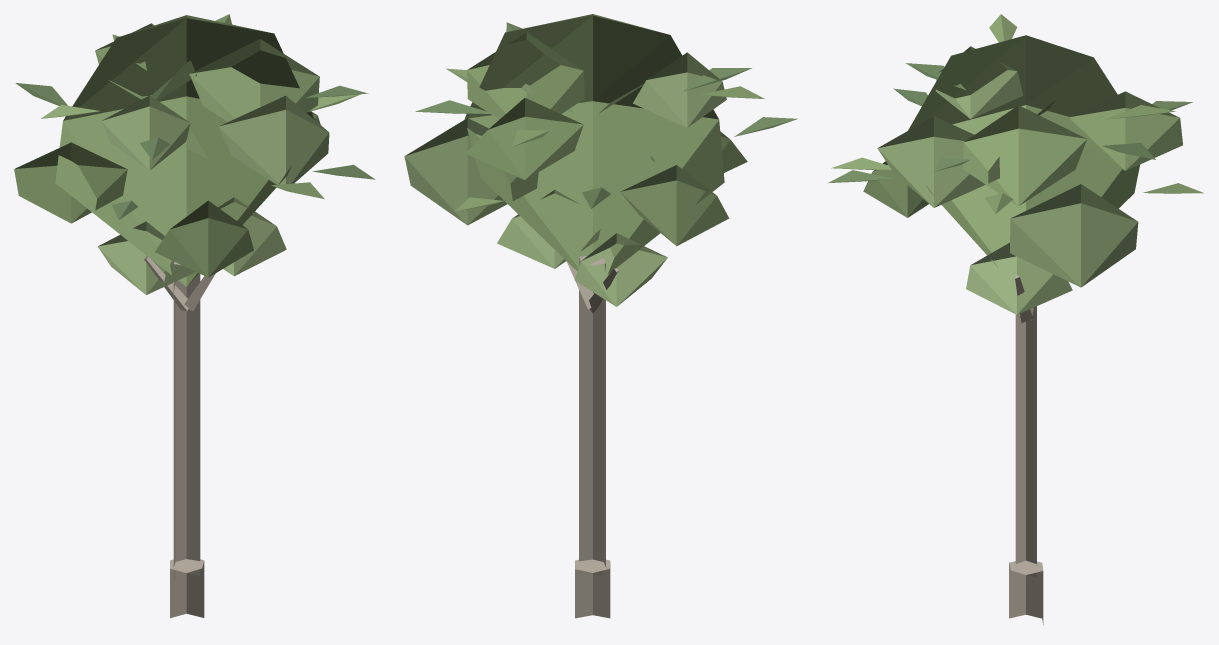
Rendered from shu.baigan@subadult__summer.glb.
3 views of the same model, side by side, from view 1: azimuth 30°, elevation 25°; view 2: azimuth 150°, elevation 25°; view 3: azimuth 270°, elevation 25° (orthographic). The views are drawn at different scales.
Visible parts, largest first — view 1: shu.baigan@subadult__summer; view 2: shu.baigan@subadult__summer; view 3: shu.baigan@subadult__summer.
Boxes of the visible parts, <box> form: shu.baigan@subadult__summer: <box>14,14,375,618</box>; shu.baigan@subadult__summer: <box>404,14,797,618</box>; shu.baigan@subadult__summer: <box>828,14,1203,624</box>.
Bounding box in the file's own units: 4.61 × 8.31 × 4.84.
